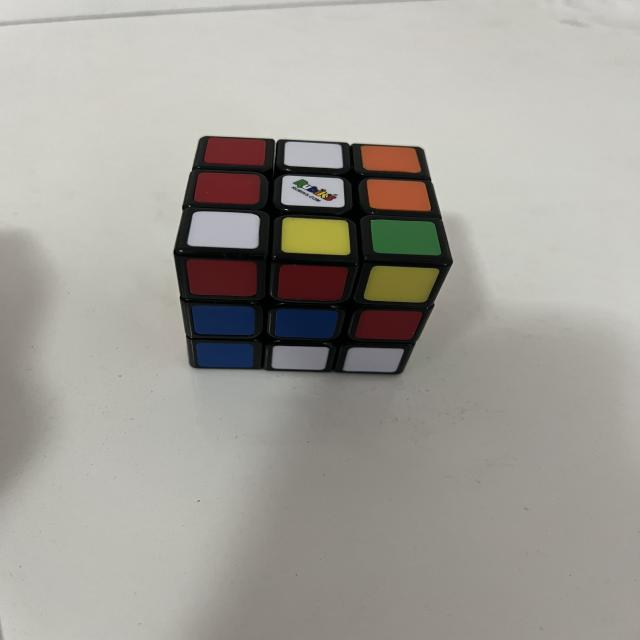blue: (191, 305, 257, 337), (274, 309, 338, 338), (195, 342, 254, 368)
center: (280, 175, 347, 208), (274, 308, 338, 340)
green: (369, 219, 442, 256)
orange: (366, 178, 432, 212), (359, 144, 421, 174)
red: (185, 258, 258, 297), (278, 265, 347, 302), (194, 172, 260, 205), (355, 309, 423, 341), (204, 137, 266, 166)
white: (187, 210, 261, 250), (280, 174, 347, 209), (342, 346, 404, 374), (284, 141, 344, 169), (270, 345, 330, 371)
yellow: (363, 265, 439, 304), (280, 216, 352, 257)
